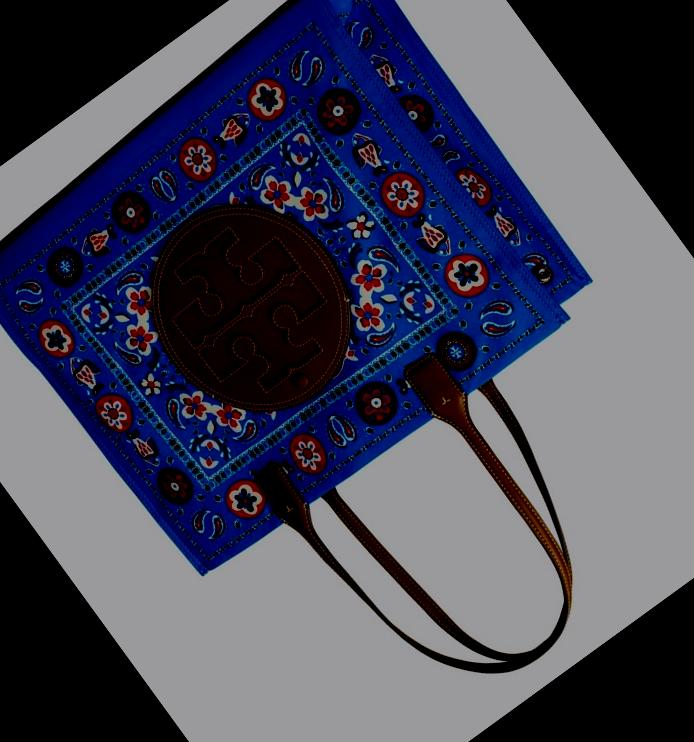TORY-BURCH: (110, 165, 389, 450)
